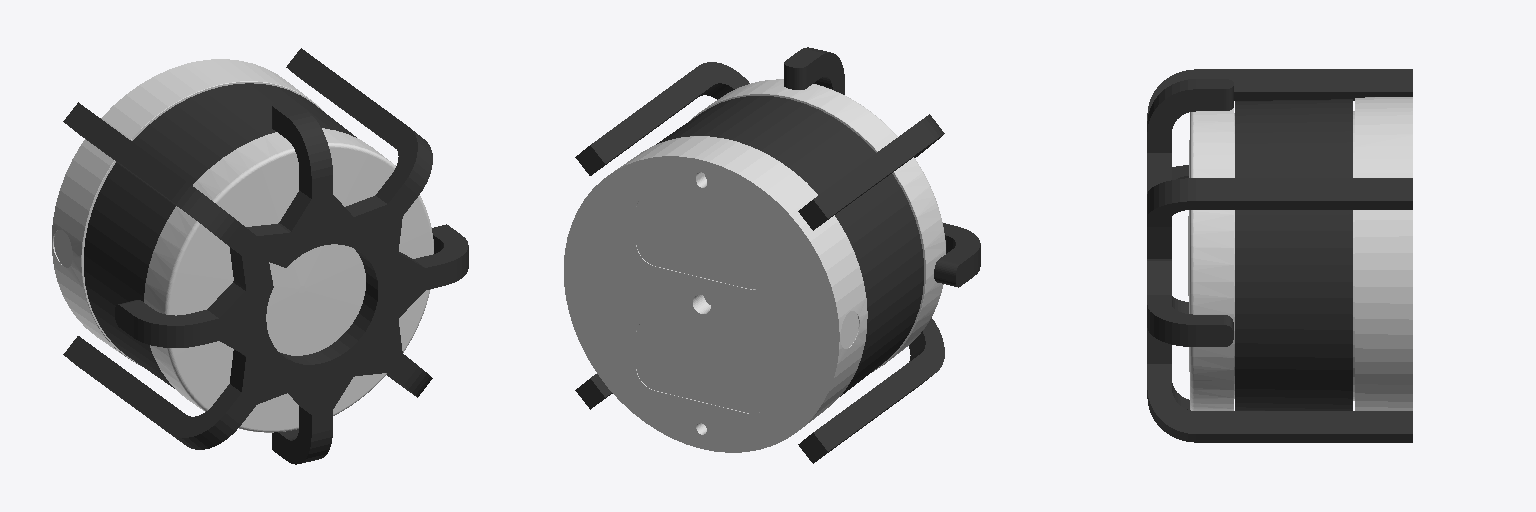
3 renders of one model, left to right at view 1: azimuth 30°, elevation 25°; view 2: azimuth 150°, elevation 25°; view 3: azimuth 270°, elevation 25°, orthographic.
Size of the model in its own units: 0.1229 by 0.1229 by 0.0859.
1 materials, 1 textured.